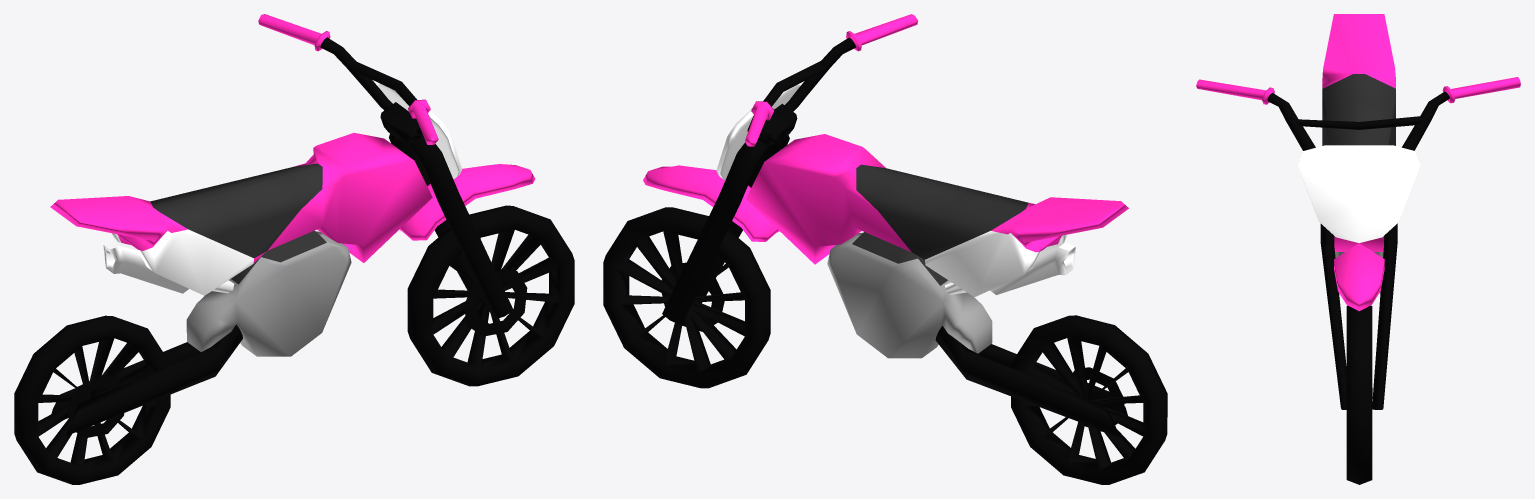
Rendered from DirtBike125ccPink.glb.
The picture shows the model from 3 angles, left to right: view 1: azimuth 30°, elevation 25°; view 2: azimuth 150°, elevation 25°; view 3: azimuth 270°, elevation 25°; orthographic projection. The views are drawn at different scales.
Parts seen in each view (by area): view 1: DirtBike125ccPink; view 2: DirtBike125ccPink; view 3: DirtBike125ccPink.
Boxes of the visible parts, x1,y1,x2,y2 form: DirtBike125ccPink: (14,14,574,484); DirtBike125ccPink: (603,14,1167,484); DirtBike125ccPink: (1196,14,1520,484).
Bounding box in the file's own units: 1.92 × 1.13 × 1.01.
Materials: 1 (1 with a texture image).
